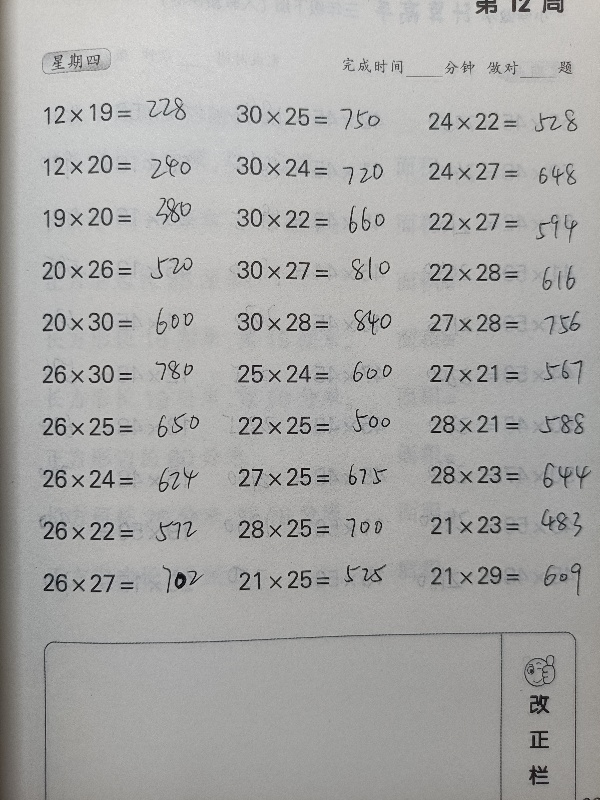equation: (30, 512, 210, 549), (34, 565, 214, 600), (229, 459, 409, 494), (35, 357, 215, 392), (33, 251, 213, 286), (34, 199, 214, 234), (227, 149, 407, 184), (230, 562, 410, 596), (230, 511, 410, 545), (34, 462, 214, 496), (35, 410, 215, 444), (230, 409, 410, 443), (230, 357, 410, 391), (229, 305, 409, 339), (34, 305, 214, 339), (228, 253, 408, 287), (228, 201, 408, 235), (34, 147, 214, 181), (228, 99, 408, 133), (35, 95, 215, 129), (421, 558, 600, 592), (421, 356, 600, 390), (421, 205, 600, 239), (422, 508, 600, 542), (422, 407, 600, 441), (422, 306, 600, 340), (423, 458, 600, 492), (420, 105, 600, 138), (421, 256, 600, 289), (421, 155, 600, 188)
